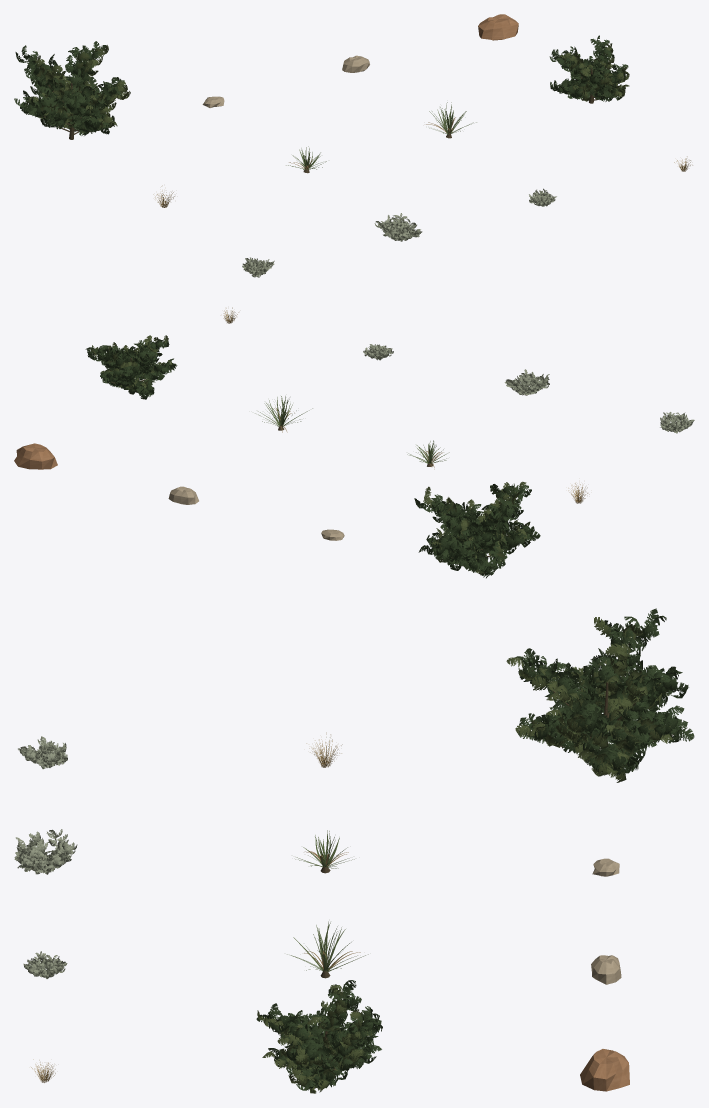
The model's file is caliche_vegetation.glb.
3 renders of one model, top to bottom at view 1: azimuth 30°, elevation 25°; view 2: azimuth 150°, elevation 25°; view 3: azimuth 270°, elevation 25°, orthographic. The views are drawn at different scales.
Visible parts, largest first — view 1: SM_CN_Juniper_B, SM_CN_Juniper_A, SM_CN_Sandstone_A, SM_CN_Sage_B, SM_CN_Yucca_B, SM_CN_Sage_A; view 2: SM_CN_Juniper_B, SM_CN_Juniper_A, SM_CN_Sandstone_A, SM_CN_Sage_B, SM_CN_Sage_A, SM_CN_Yucca_B, SM_CN_Caliche_B; view 3: SM_CN_Juniper_B, SM_CN_Juniper_A, SM_CN_Sage_B, SM_CN_Sandstone_A, SM_CN_Yucca_B, SM_CN_Sage_A, SM_CN_Sage_C, SM_CN_Caliche_B.
Part boxes in pixels (x1,y1,x2,y2): SM_CN_Juniper_B: (14,41,130,139); SM_CN_Juniper_A: (549,35,629,103); SM_CN_Sandstone_A: (478,14,518,40); SM_CN_Sage_B: (374,213,422,241); SM_CN_Yucca_B: (426,102,476,138); SM_CN_Sage_A: (242,257,274,277); SM_CN_Juniper_B: (414,481,540,578); SM_CN_Juniper_A: (85,335,177,399); SM_CN_Sandstone_A: (14,443,57,469); SM_CN_Sage_B: (504,369,549,395); SM_CN_Sage_A: (660,412,694,433); SM_CN_Yucca_B: (255,396,312,432); SM_CN_Caliche_B: (168,486,198,504); SM_CN_Juniper_B: (506,608,694,782); SM_CN_Juniper_A: (256,980,382,1093); SM_CN_Sage_B: (14,829,77,874); SM_CN_Sandstone_A: (580,1049,629,1091); SM_CN_Yucca_B: (287,921,368,978); SM_CN_Sage_A: (18,736,67,769); SM_CN_Sage_C: (23,951,67,978); SM_CN_Caliche_B: (591,955,621,984).
Size of the model in its own units: 16.53 by 2.65 by 12.61.
3 materials, 3 textured.
